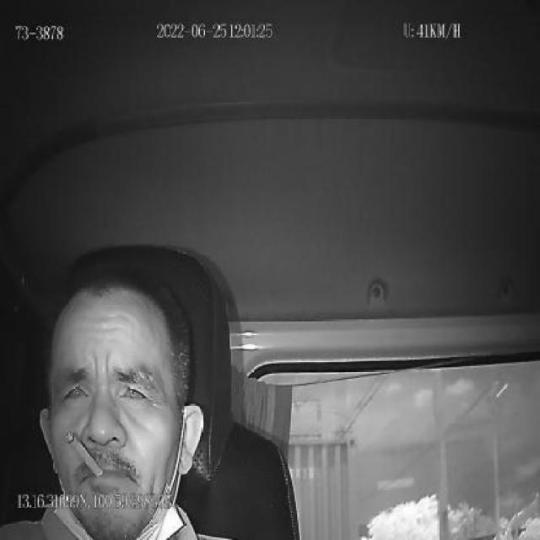smoking: (64, 431, 106, 478)
